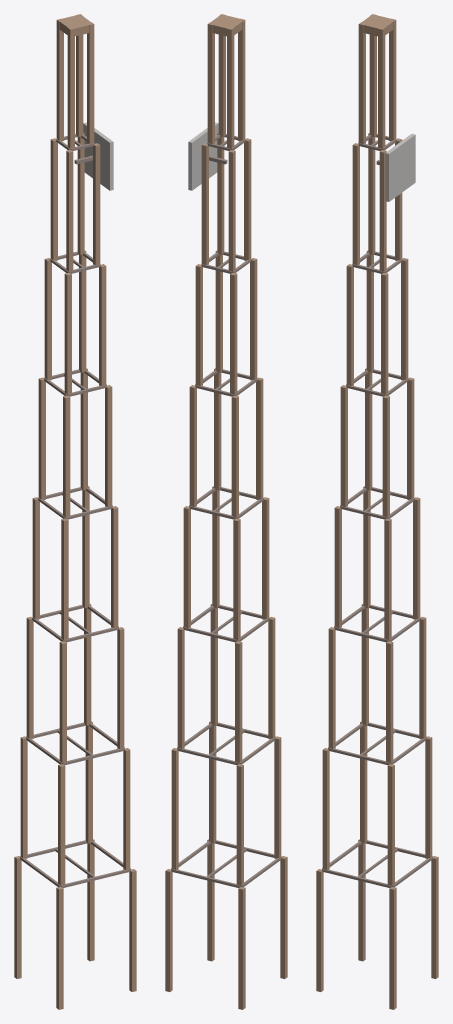
File: RadioTower.glb
3 renders of one model, left to right at view 1: azimuth 30°, elevation 25°; view 2: azimuth 150°, elevation 25°; view 3: azimuth 330°, elevation 25°, orthographic.
Parts seen in each view (by area): view 1: RadioTowerMesh; view 2: RadioTowerMesh; view 3: RadioTowerMesh.
Boxes of the visible parts, box(x1,y1,x2,y2) form: RadioTowerMesh: box(14, 14, 136, 1009); RadioTowerMesh: box(165, 14, 287, 1009); RadioTowerMesh: box(316, 14, 438, 1009).
Size of the model in its own units: 2.02 by 24 by 2.02.
